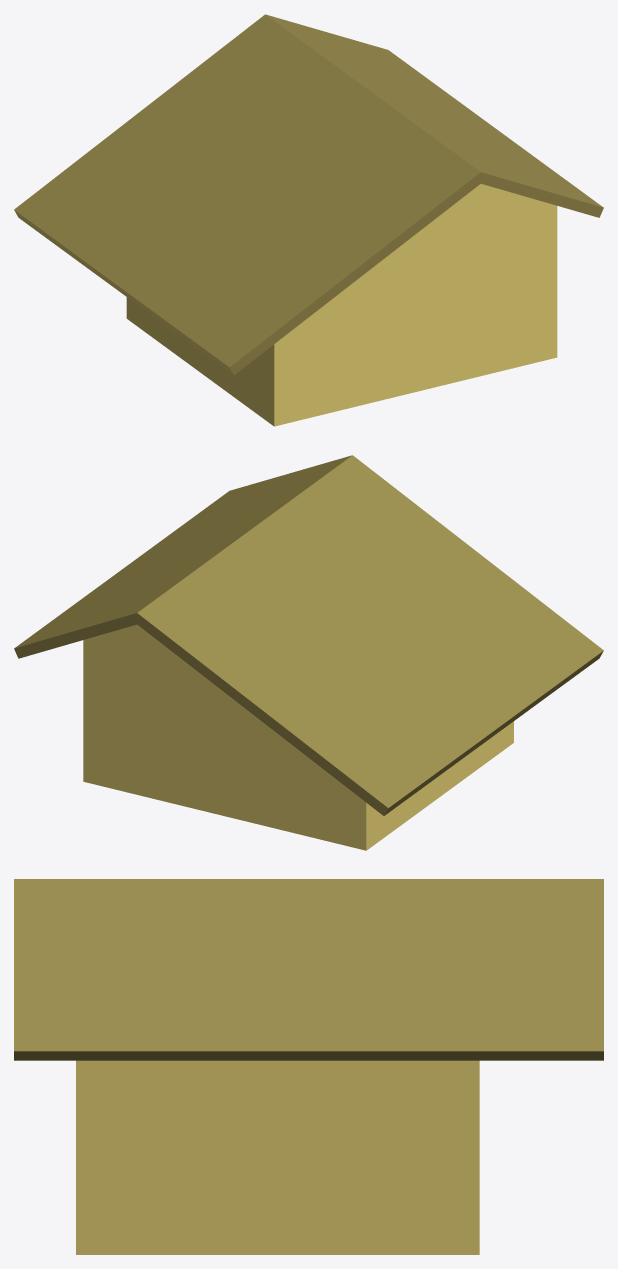
Rendered from result.glb.
3 views of the same model, one above another, from view 1: azimuth 30°, elevation 25°; view 2: azimuth 150°, elevation 25°; view 3: azimuth 270°, elevation 25° (orthographic). The views are drawn at different scales.
Visible parts, largest first — view 1: 7819190c-999f-4b67-954a-f95155bab2f9__undefined (×2), 4c75d3f1-19ce-4db0-8cff-7217ff02f151__undefined; view 2: 7819190c-999f-4b67-954a-f95155bab2f9__undefined (×2), 4c75d3f1-19ce-4db0-8cff-7217ff02f151__undefined; view 3: 7819190c-999f-4b67-954a-f95155bab2f9__undefined, 4c75d3f1-19ce-4db0-8cff-7217ff02f151__undefined.
Boxes of the visible parts, x1=… form: 7819190c-999f-4b67-954a-f95155bab2f9__undefined (×2): x1=14, y1=14, x2=603, y2=374; 4c75d3f1-19ce-4db0-8cff-7217ff02f151__undefined: x1=126, y1=184, x2=557, y2=426; 7819190c-999f-4b67-954a-f95155bab2f9__undefined (×2): x1=14, y1=455, x2=603, y2=815; 4c75d3f1-19ce-4db0-8cff-7217ff02f151__undefined: x1=83, y1=624, x2=513, y2=850; 7819190c-999f-4b67-954a-f95155bab2f9__undefined: x1=14, y1=879, x2=603, y2=1060; 4c75d3f1-19ce-4db0-8cff-7217ff02f151__undefined: x1=76, y1=1060, x2=479, y2=1254.
Size of the model in its own units: 953 by 550 by 950.
